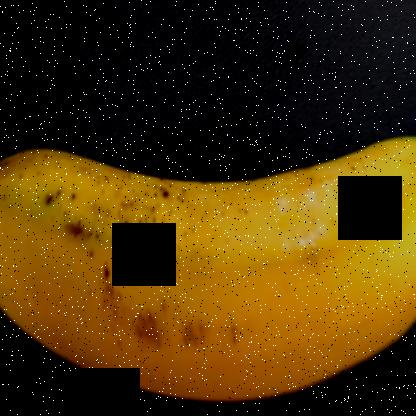ripe: (5, 122, 415, 415)
